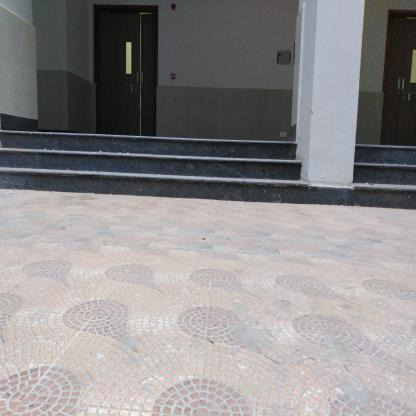stairs: (12, 129, 295, 196)
